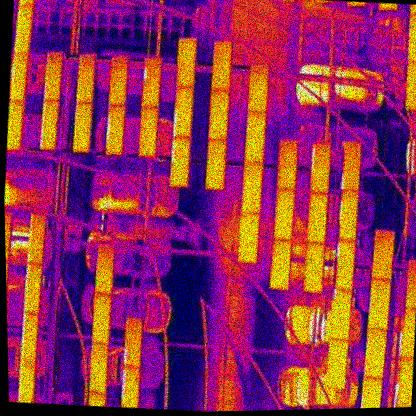Diode: (172, 84, 195, 137), (309, 143, 331, 195), (141, 57, 163, 108), (170, 136, 192, 187), (338, 190, 360, 241), (335, 240, 357, 291), (8, 51, 29, 102), (105, 104, 126, 155), (123, 316, 144, 367), (23, 263, 43, 315), (40, 99, 60, 150), (19, 314, 39, 363), (121, 365, 141, 408)
Hotspot: (330, 288, 354, 341)
Normal: (363, 328, 389, 380), (304, 191, 329, 245), (371, 228, 396, 281), (269, 239, 294, 292), (273, 187, 297, 242), (367, 278, 392, 330), (240, 161, 264, 215), (236, 212, 260, 264), (244, 112, 267, 166), (204, 138, 227, 192), (107, 56, 130, 109), (91, 292, 114, 345), (175, 37, 198, 89), (303, 242, 326, 293), (247, 63, 270, 113), (276, 139, 299, 189), (211, 41, 234, 91), (208, 89, 230, 141), (88, 342, 110, 394), (42, 50, 63, 103), (13, 2, 34, 55), (95, 243, 116, 295), (327, 340, 349, 389), (138, 106, 159, 157), (73, 102, 93, 154), (6, 99, 26, 151), (27, 214, 47, 266), (76, 52, 95, 104), (343, 142, 363, 190), (17, 360, 37, 403), (405, 59, 416, 109), (406, 11, 416, 63)
